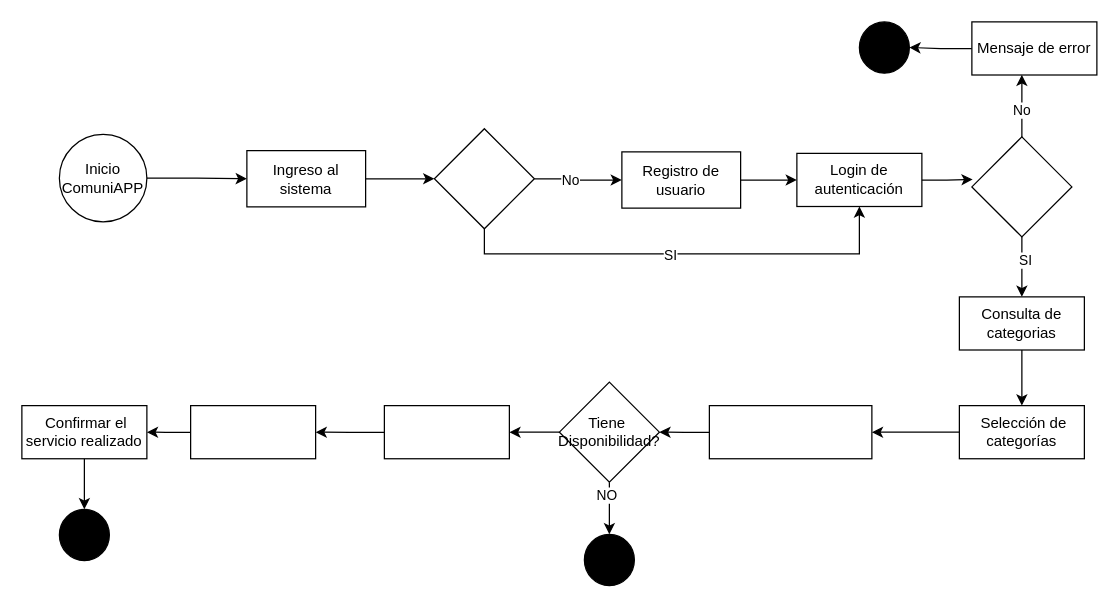
The diagram is 1119 pixels wide and 608 high, and some of its shapes have lost their labels. Each missing label, with the centre of its shape:
"Agendar servicio" belongs at (446,431).
"Credenciales validas?" belongs at (1021,186).
"Esperar confirmación del emprendedor" belongs at (252,431).
"Selección de emprendedor" belongs at (790,431).
"Tiene cuenta?" belongs at (483,178).
